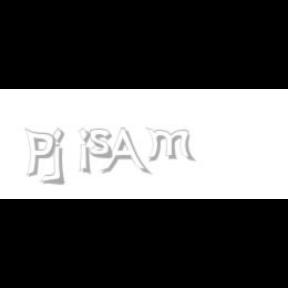A: (100, 128, 148, 176)
P: (24, 128, 56, 178)
i: (78, 128, 94, 176)
j: (50, 128, 78, 186)
m: (145, 128, 197, 162)
s: (89, 128, 117, 160)
